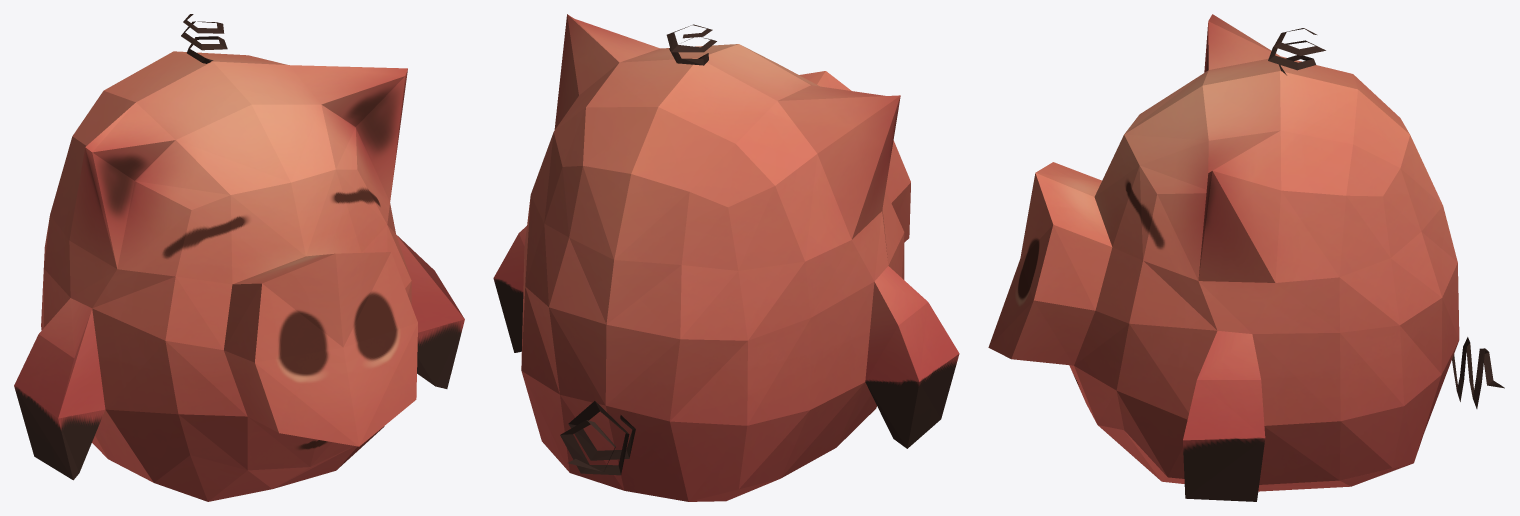
Rendered from food_pig.FBX.
3 views of the same model, side by side, from view 1: azimuth 30°, elevation 25°; view 2: azimuth 150°, elevation 25°; view 3: azimuth 270°, elevation 25° (orthographic). The views are drawn at different scales.
Parts seen in each view (by area): view 1: food_pig; view 2: food_pig; view 3: food_pig.
Boxes of the visible parts, x1,y1,x2,y2 form: food_pig: (14, 14, 464, 501); food_pig: (493, 14, 959, 501); food_pig: (988, 14, 1504, 501).
Bounding box in the file's own units: 242 × 241 × 264.
